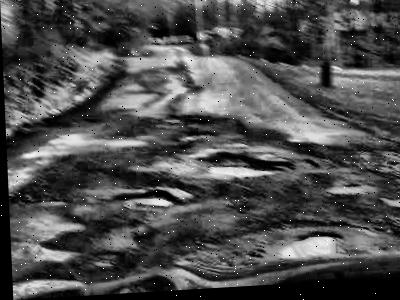pothole: (195, 150, 287, 183), (268, 233, 342, 266), (91, 275, 174, 295), (114, 189, 177, 213), (326, 185, 365, 198)
